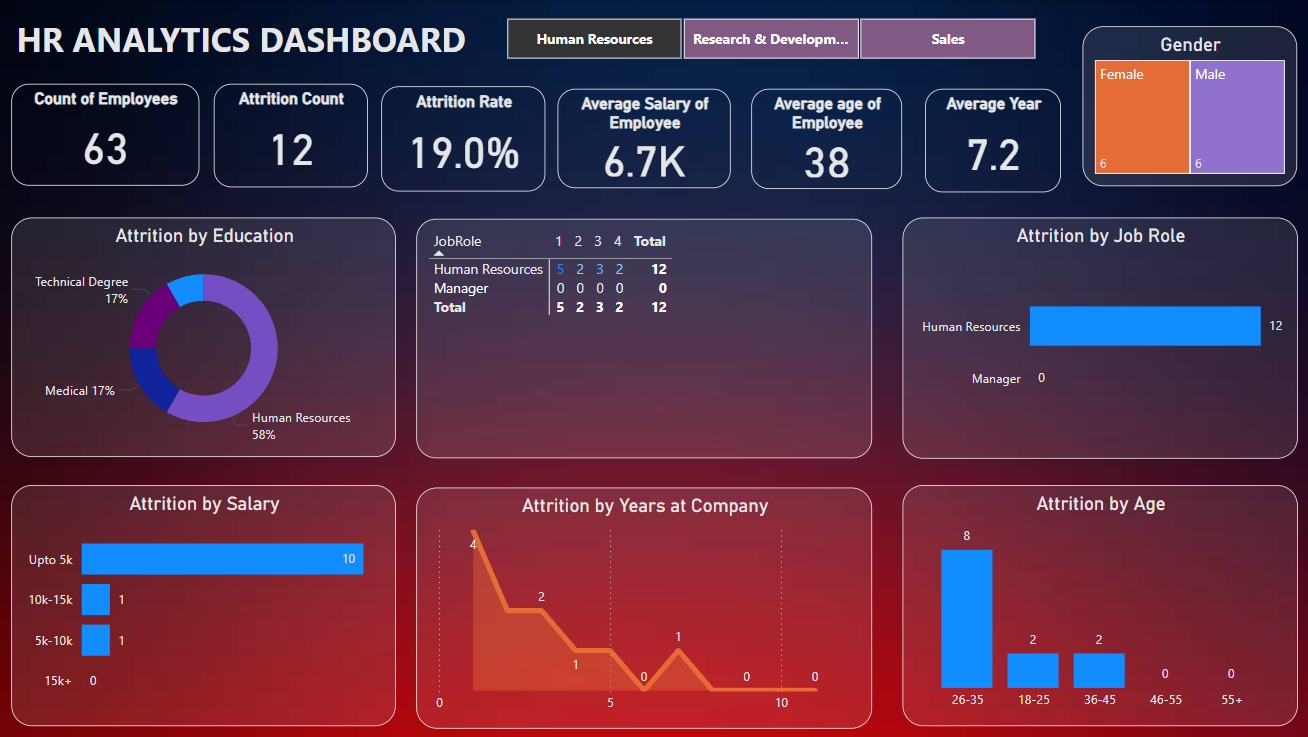

This screenshot's page, from the dashboard's own definition file:
{"tool":"powerbi","page":{"name":"Page 1","canvas":[1280,720],"ordinal":0},"visuals":[{"type":"card","title":"Count of Employees","fields":{"Values":["CountNonNull(HR_Analytics.EmpID)"]},"box":[15.7,81.4,181.4,98.6],"z":0},{"type":"card","title":"Attrition Count","fields":{"Values":["Sum(HR_Analytics.AttritionCount)"]},"box":[211.4,81.4,148.6,100],"z":1000},{"type":"card","title":"Attrition Rate","fields":{"Values":["HR_Analytics.AttritionRate"]},"box":[372.9,82.9,158.6,101.4],"z":2000},{"type":"card","title":"Average age of Employee","fields":{"Values":["Avg(HR_Analytics.Age)"]},"box":[730,85.7,145.7,97.1],"z":3000},{"type":"card","title":"Average Salary of Employee","fields":{"Values":["Avg(HR_Analytics.MonthlyIncome)"]},"box":[542.9,85.7,167.1,95.7],"z":4000},{"type":"card","title":"Average Year","fields":{"Values":["Avg(HR_Analytics.YearsAtCompany)"]},"box":[897.1,85.7,131.4,100],"z":5000},{"type":"donutChart","title":"Attrition by Education","fields":{"Category":["HR_Analytics.EducationField"],"Y":["Sum(HR_Analytics.AttritionCount)"]},"box":[15.7,210,371.4,231.4],"z":6000},{"type":"columnChart","title":"Attrition by Age","fields":{"Category":["HR_Analytics.AgeGroup"],"Y":["Sum(HR_Analytics.AttritionCount)"]},"box":[875.7,468.6,381.4,232.9],"z":7000},{"type":"pivotTable","title":"Job S","fields":{"Rows":["HR_Analytics.JobRole"],"Columns":["HR_Analytics.JobSatisfaction"],"Values":["Sum(HR_Analytics.AttritionCount)"]},"box":[407.1,211.4,440,231.4],"z":8000},{"type":"barChart","title":"Attrition by Salary","fields":{"Category":["HR_Analytics.SalarySlab"],"Y":["Sum(HR_Analytics.AttritionCount)"]},"box":[15.7,468.6,371.4,232.9],"z":9000},{"type":"barChart","title":"Attrition by Job Role","fields":{"Category":["HR_Analytics.JobRole"],"Y":["Sum(HR_Analytics.AttritionCount)"]},"box":[875.7,210,381.4,232.9],"z":10000},{"type":"areaChart","title":"Attrition by Years at Company","fields":{"Category":["HR_Analytics.YearsAtCompany"],"Y":["Sum(HR_Analytics.AttritionCount)"]},"box":[407.1,470,440,232.9],"z":11000},{"type":"treemap","title":"Gender","fields":{"Group":["HR_Analytics.Gender"],"Values":["Sum(HR_Analytics.AttritionCount)"]},"box":[1050,25.7,207.1,154.3],"z":12000},{"type":"slicer","fields":{"Values":["HR_Analytics.Department"]},"box":[468.6,11.4,560,52.9],"z":13000},{"type":"textbox","box":[15.7,11.4,452.9,52.9],"z":14000}]}

Visuals, with their boxes in screenshot pixels (x1, y1, x2, y2), scaled from the page's 1280x720 canvas onto the 1308x737 screenshot:
"Count of Employees" card: select_region(16, 83, 201, 184)
"Attrition Count" card: select_region(216, 83, 368, 186)
"Attrition Rate" card: select_region(381, 85, 543, 189)
"Average age of Employee" card: select_region(746, 88, 895, 187)
"Average Salary of Employee" card: select_region(555, 88, 726, 186)
"Average Year" card: select_region(917, 88, 1051, 190)
"Attrition by Education" donutChart: select_region(16, 215, 396, 452)
"Attrition by Age" columnChart: select_region(895, 480, 1285, 718)
"Job S" pivotTable: select_region(416, 216, 866, 453)
"Attrition by Salary" barChart: select_region(16, 480, 396, 718)
"Attrition by Job Role" barChart: select_region(895, 215, 1285, 453)
"Attrition by Years at Company" areaChart: select_region(416, 481, 866, 719)
"Gender" treemap: select_region(1073, 26, 1285, 184)
slicer - HR_Analytics.Department: select_region(479, 12, 1051, 66)
textbox: select_region(16, 12, 479, 66)
